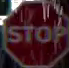Stop: (3, 1, 68, 67)
